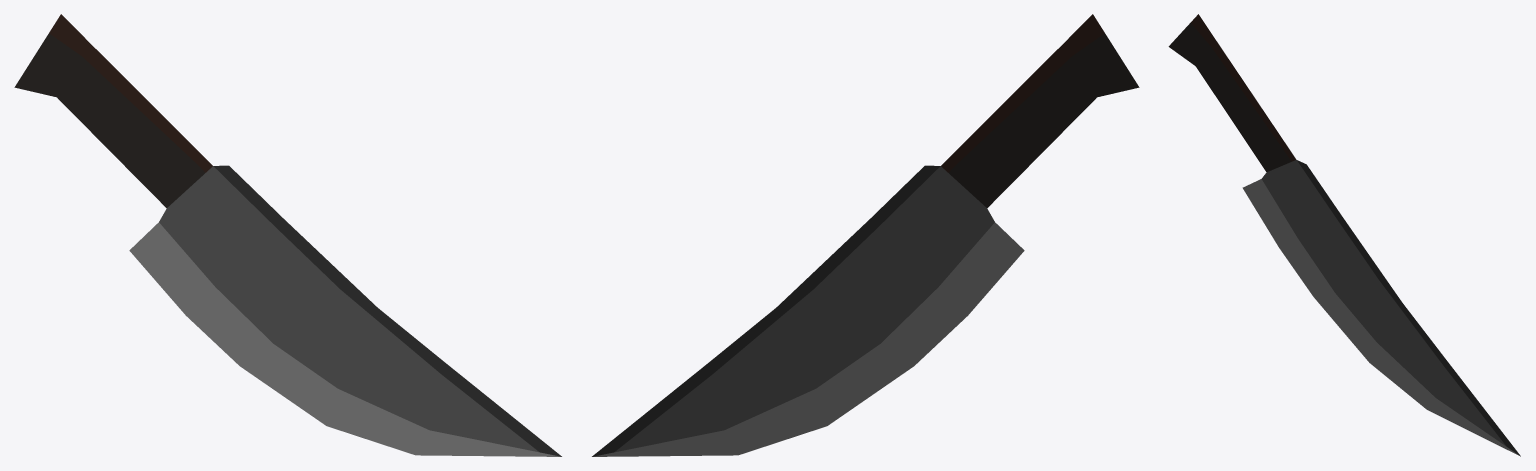
File: knife.FBX
The picture shows the model from 3 angles, left to right: view 1: azimuth 30°, elevation 25°; view 2: azimuth 150°, elevation 25°; view 3: azimuth 330°, elevation 25°; orthographic projection. The views are drawn at different scales.
Parts seen in each view (by area): view 1: knife; view 2: knife; view 3: knife.
Part boxes in pixels (left/top/right/bottom): knife: left=14, top=14, right=561, bottom=456; knife: left=592, top=14, right=1139, bottom=456; knife: left=1168, top=14, right=1520, bottom=456.
Size of the model in its own units: 54.66 by 53.87 by 4.44e-05.
1 material, 1 textured.
